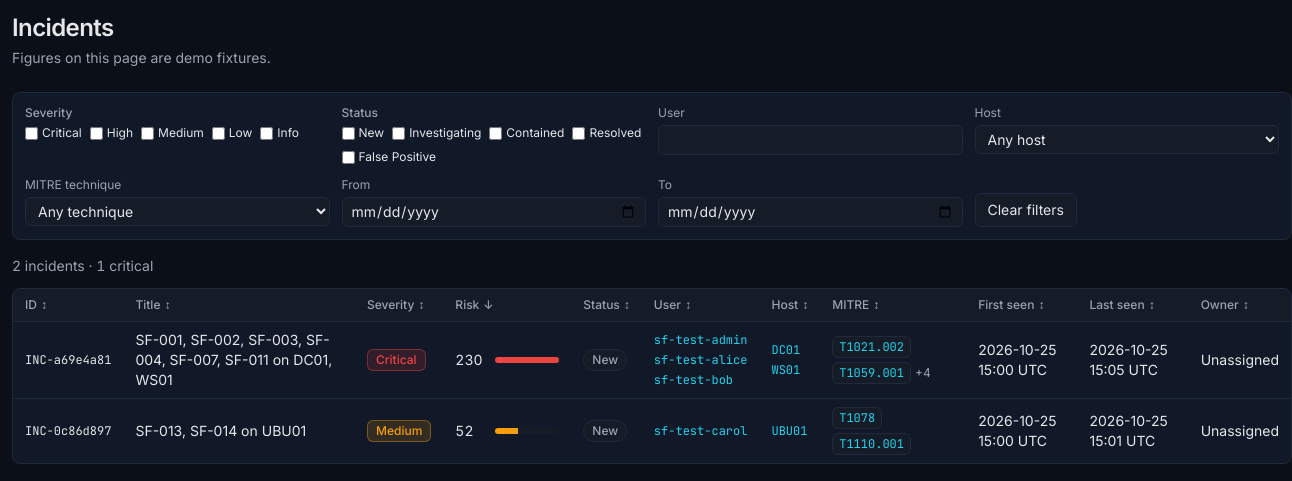
Test: incidents queue › narrows the table when a severity filter is applied
Check: the text "INC-a69e4a81" is shown, box [13, 322, 123, 398]
Click the checkbox labelled "Critical": (32, 133) [25, 126, 38, 140]
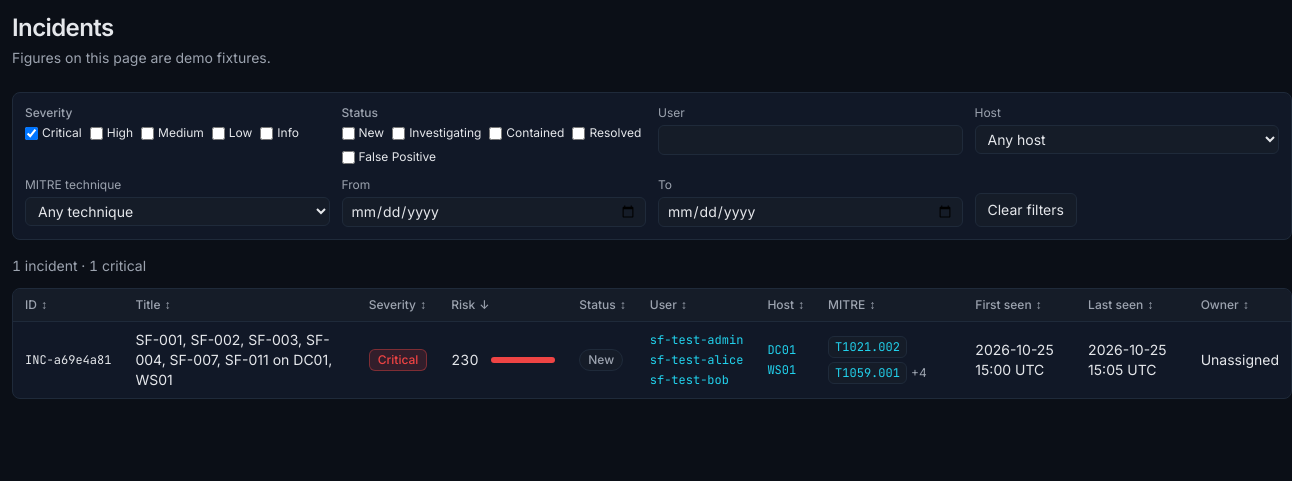
Check: the text "INC-a69e4a81" is shown, box [13, 322, 123, 398]
Check: the text "INC-0c86d897" is gone
